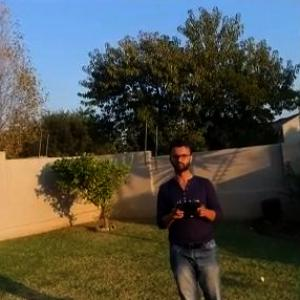follow: (149, 133, 230, 299)
